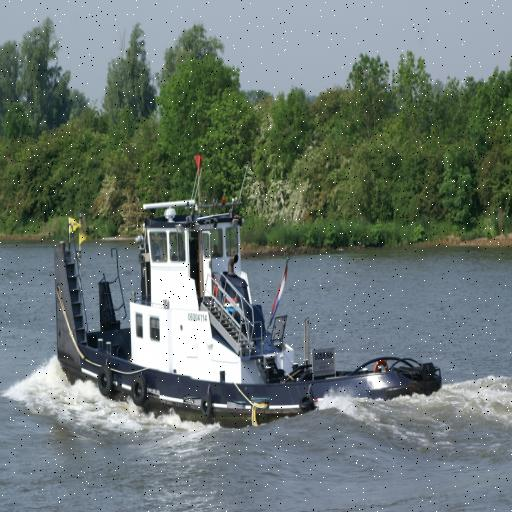tugboat: (50, 153, 447, 445)
